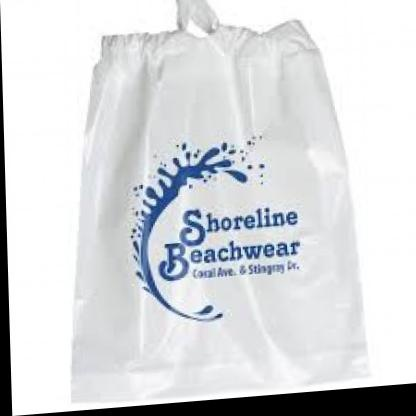trash: (72, 0, 367, 404)
